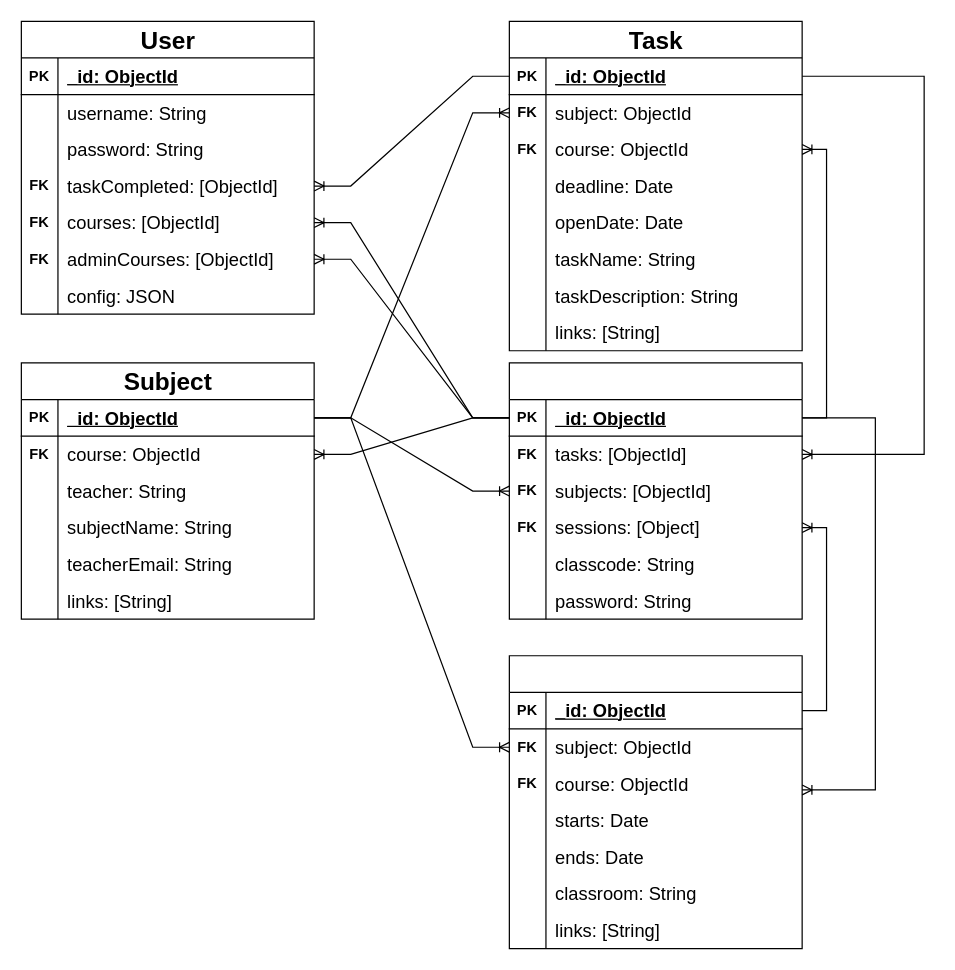
The diagram is 955 pixels wide and 970 high, and some of its shapes have lost their labels. Each missing label, with the box of its shape:
Course: (508, 362, 802, 619)
Session: (508, 655, 802, 949)
